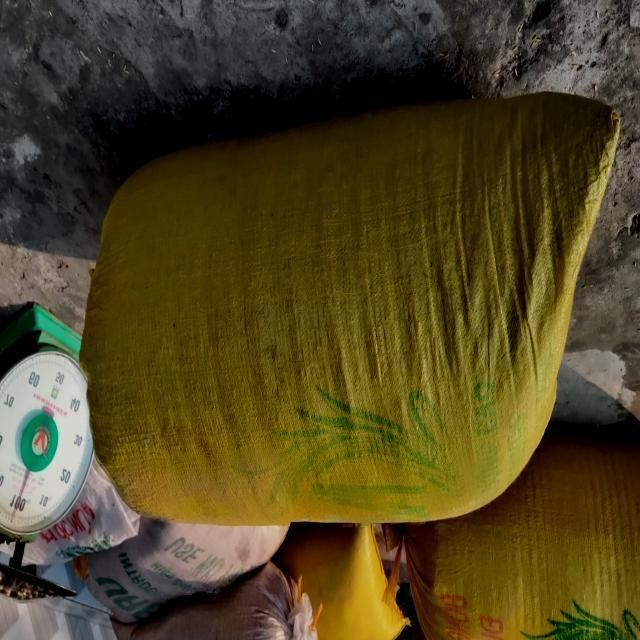gunny_bag: (80, 92, 620, 525), (404, 431, 640, 640)
